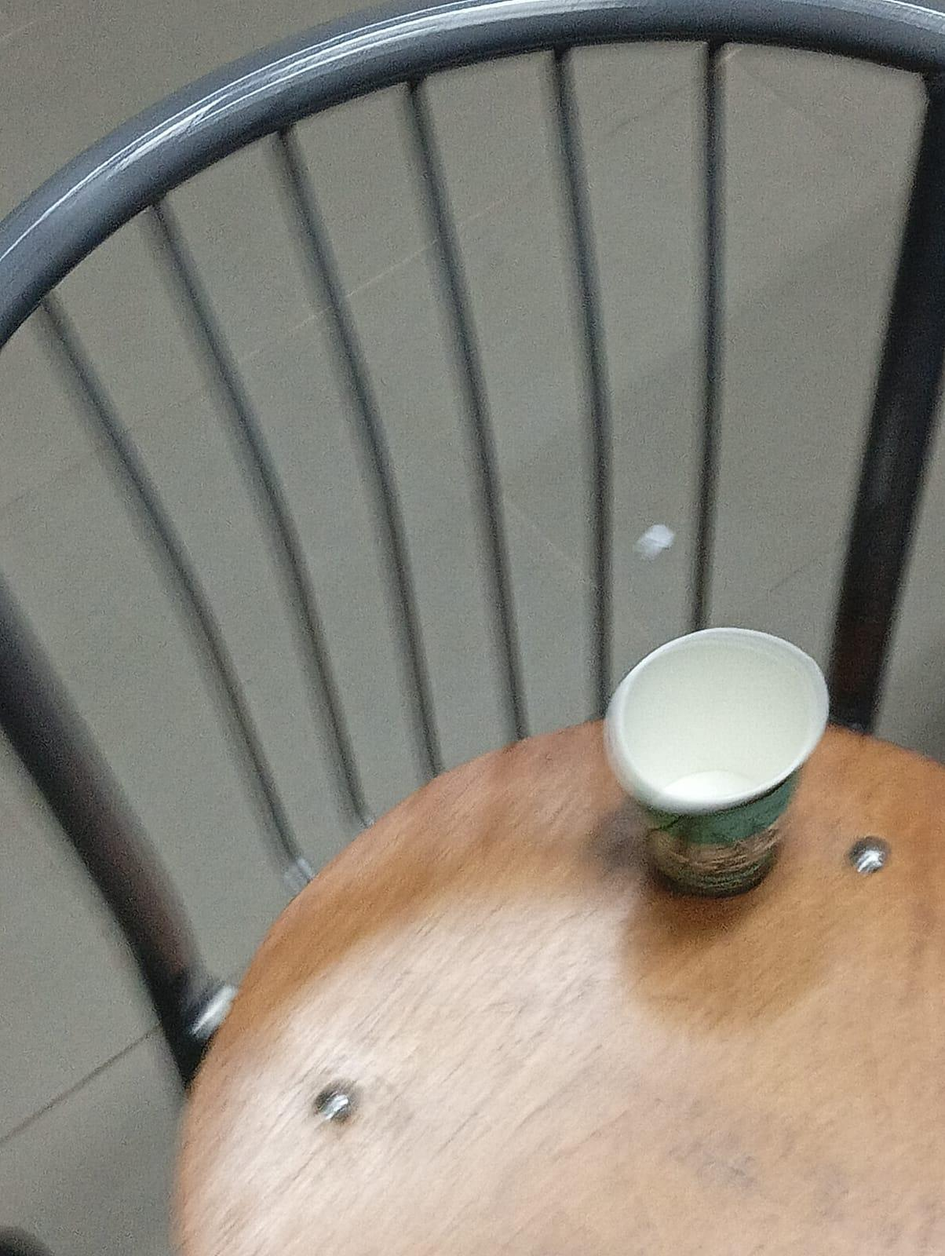cup: (604, 628, 827, 896), (604, 627, 830, 814)
